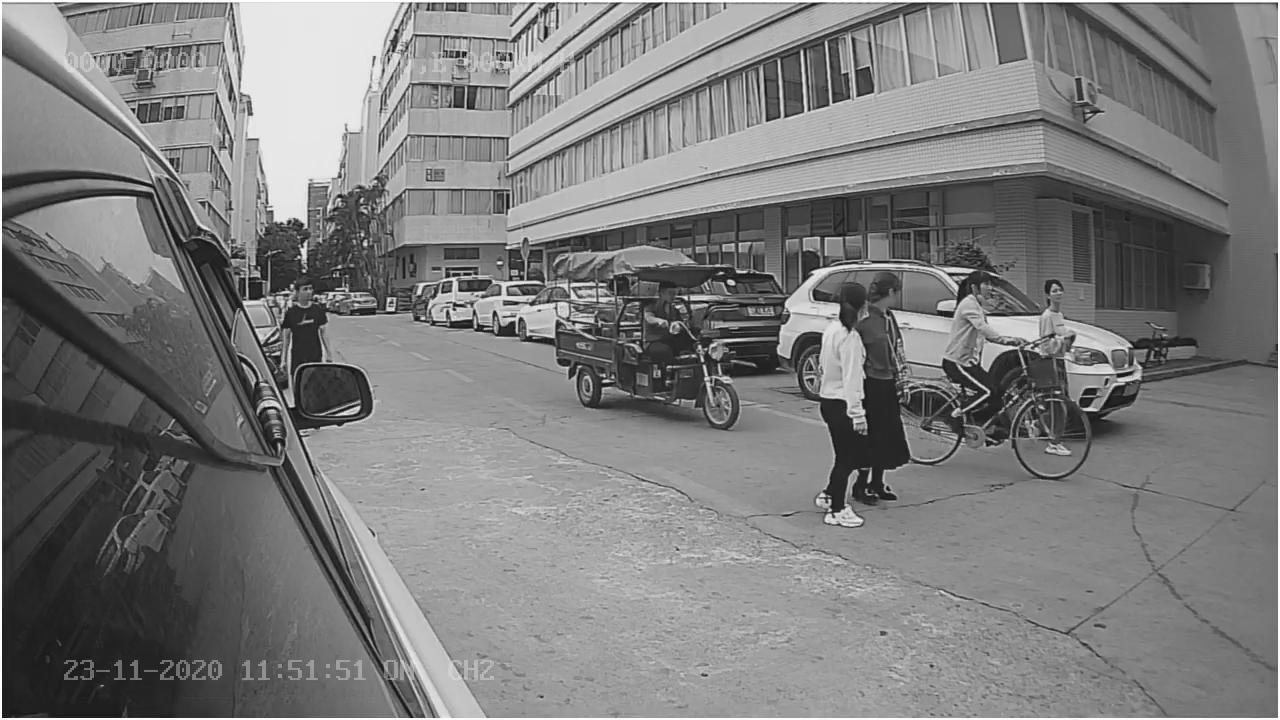person: (806, 282, 874, 527), (950, 271, 1032, 347)
